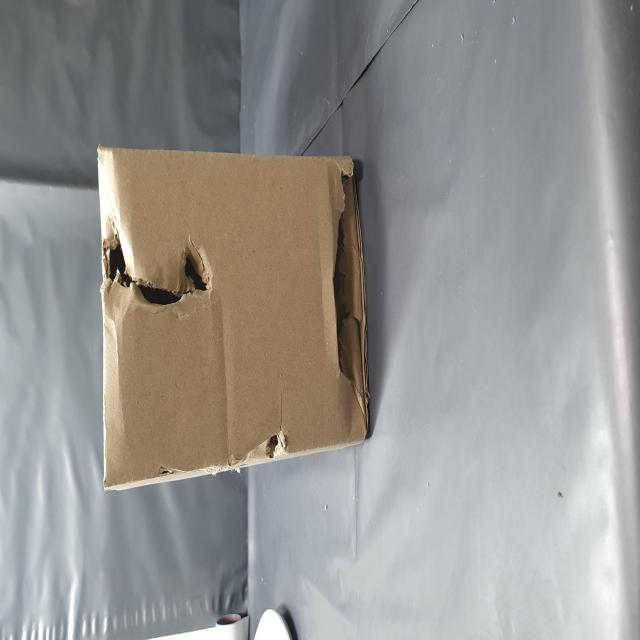damaged: (180, 187, 238, 390), (124, 592, 273, 640), (99, 443, 125, 530)
